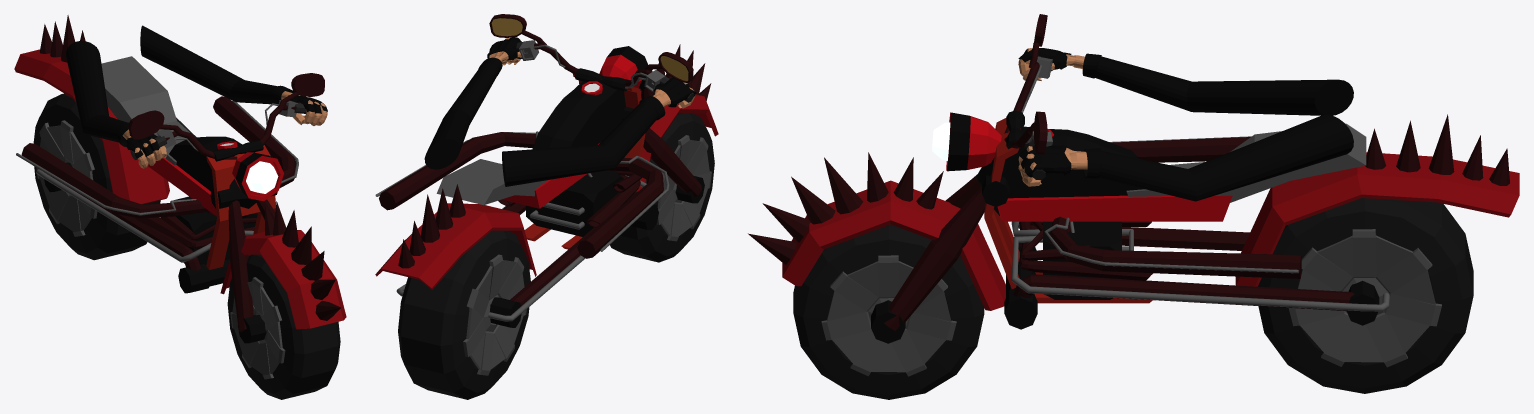
The model's file is hands.fbx.
The picture shows the model from 3 angles, left to right: view 1: azimuth 30°, elevation 25°; view 2: azimuth 150°, elevation 25°; view 3: azimuth 270°, elevation 25°; orthographic projection. The views are drawn at different scales.
Visible parts, largest first — view 1: Окружность.001, Cylinder.016, Cylinder.012, Cylinder.008, Cylinder.015, Cylinder.014, Plane, Цилиндр.001, Цилиндр.020, Cone, Plane.002, Cylinder (+17 smaller); view 2: Cylinder.012, Окружность.001, Cylinder.008, Cylinder.015, Цилиндр.001, Plane.001, Cylinder.016, Cube, Цилиндр.020, Plane, Cone.001, Cylinder (+18 smaller); view 3: Окружность.001, Cylinder.012, Цилиндр.001, Cylinder.016, Cylinder.015, Цилиндр.020, Cylinder.014, Cylinder.008, Cylinder.004, Cube.001, Cone, Cylinder (+16 smaller).
Part boxes in pixels (x1,y1,x2,y2): Окружность.001: (66,25,327,168); Cylinder.016: (227,254,340,399); Cylinder.012: (33,93,160,260); Cylinder.008: (21,96,296,218); Cylinder.015: (14,49,169,204); Cylinder.014: (220,230,346,329); Plane: (101,56,196,164); Цилиндр.001: (36,120,97,236); Цилиндр.020: (230,277,285,379); Cone: (265,201,340,320); Plane.002: (206,145,275,269); Cylinder: (228,199,275,332); Cylinder.012: (398,230,530,399); Окружность.001: (424,37,696,186); Cylinder.008: (379,132,663,258); Cylinder.015: (375,203,536,289); Цилиндр.001: (463,254,526,375); Plane.001: (532,81,625,149); Cylinder.016: (610,113,714,262); Cube: (526,170,623,236); Цилиндр.020: (656,135,711,241); Plane: (436,159,548,205); Cone.001: (398,184,465,268); Cylinder: (643,128,701,196); Окружность.001: (1018,48,1353,201); Cylinder.012: (1258,198,1473,393); Цилиндр.001: (1288,229,1441,367); Cylinder.016: (793,224,984,399); Cylinder.015: (1235,152,1519,286); Цилиндр.020: (821,255,956,376); Cylinder.014: (782,180,1005,310); Cylinder.008: (1049,137,1301,278); Cylinder.004: (1013,225,1354,310); Cube.001: (997,195,1232,221); Cone: (748,152,943,264); Cylinder: (884,174,985,331).
Bounding box in the file's own units: 179 × 197 × 426.
